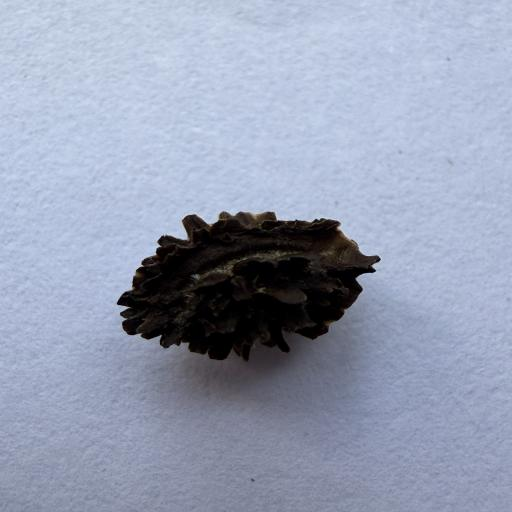papaya_seed: (120, 174, 371, 385)
